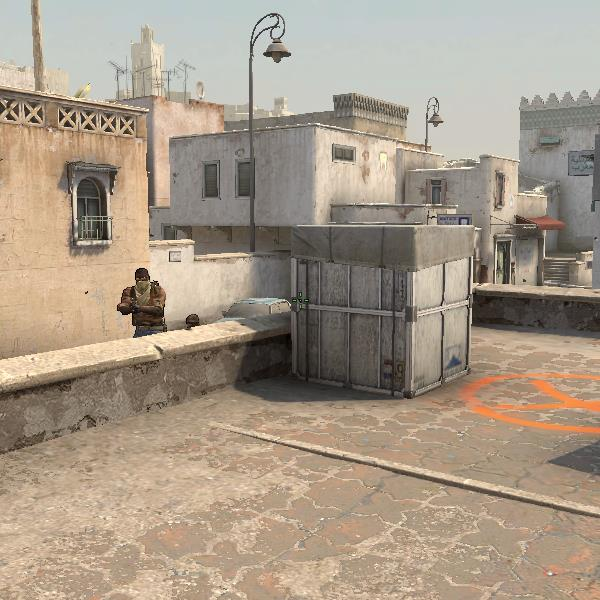t_body: (175, 313, 210, 332)
t_head: (181, 312, 203, 333)
